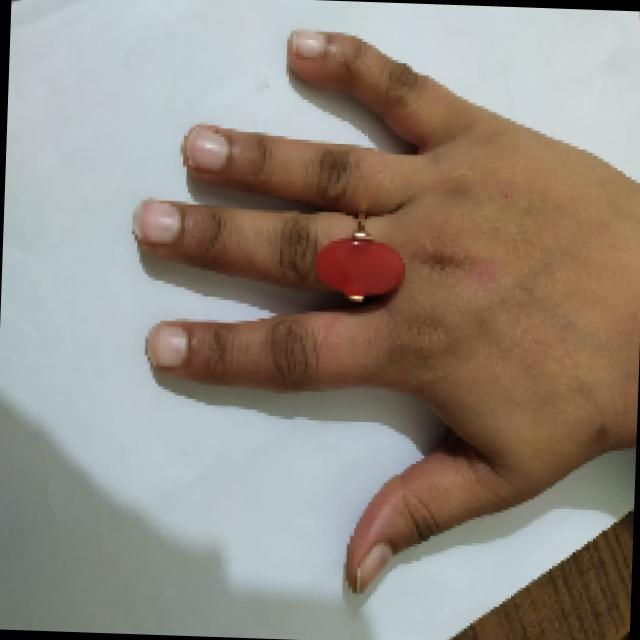Nail: (182, 126, 230, 172), (135, 200, 182, 244), (145, 322, 189, 368), (356, 542, 392, 590), (291, 31, 325, 58)
